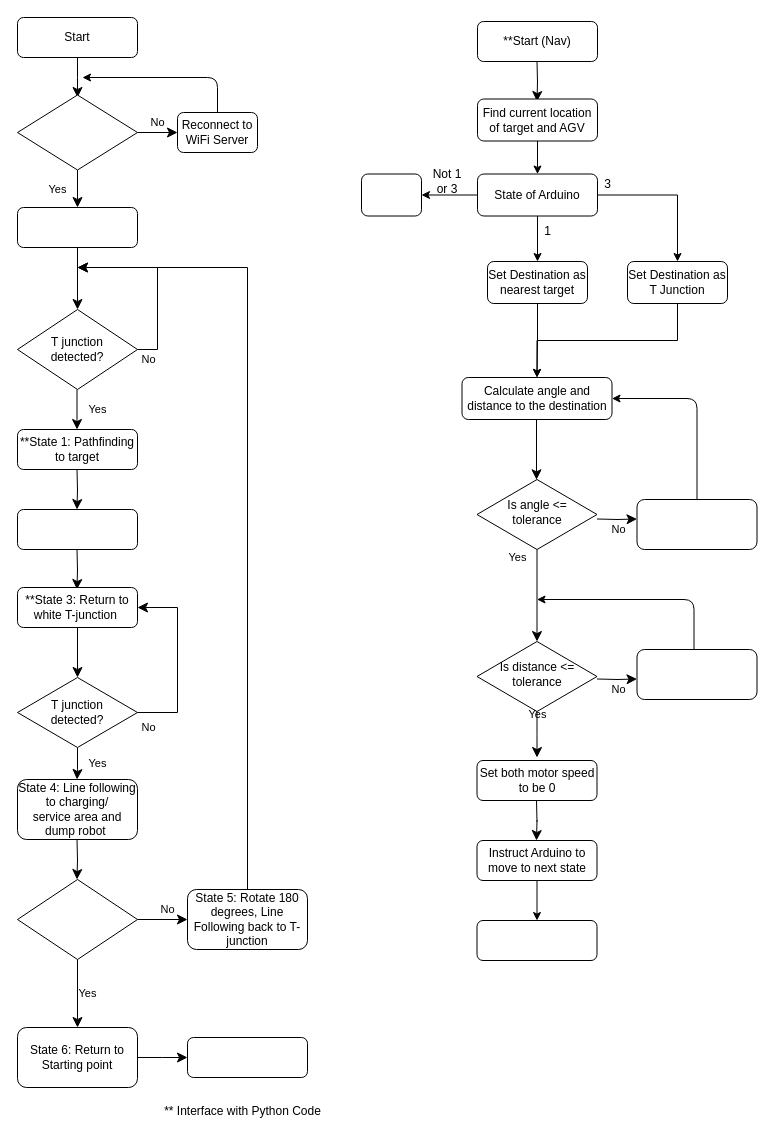
Some shapes in this 775 by 1139 pixel diagram are drawn without their labels. Here are the shapes that lost their labels. From the top down, the centre of each, then its label:
[77,132]: Connected to WiFi Server?
[391,194]: End (do nothing)
[77,227]: State 0: Line Following
[77,529]: State 2: Grab target
[696,524]: Rotate to target
[696,674]: Move forward to target
[77,919]: 3 Targets collected?
[536,940]: End**
[247,1057]: End
